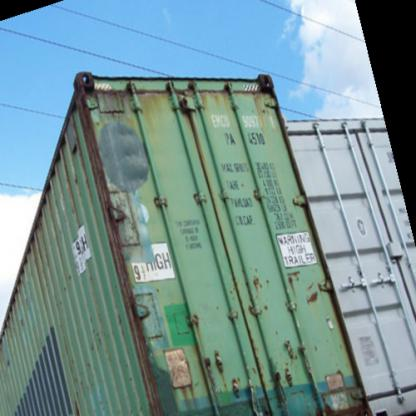Damage: (68, 64, 168, 402)
